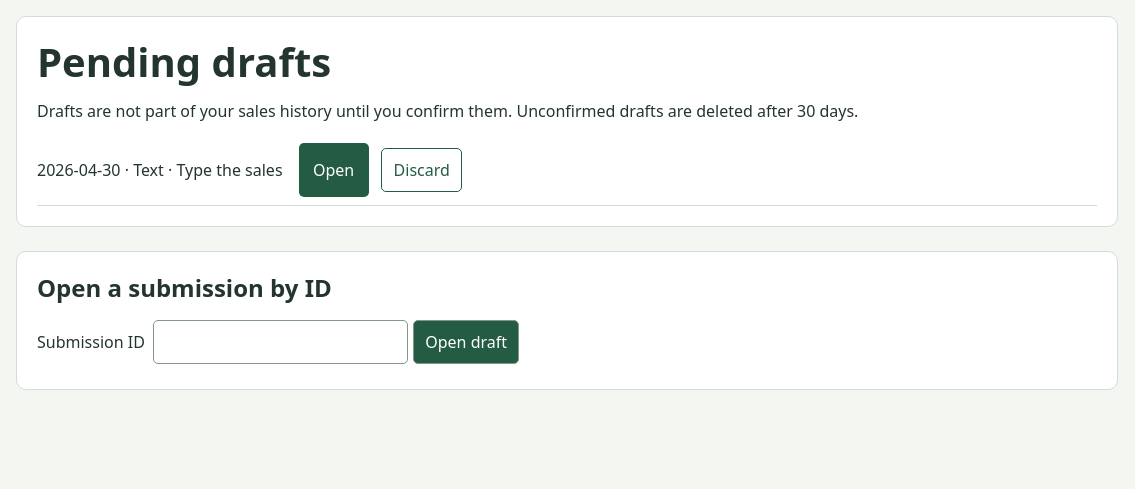
Scenario: Pending drafts (FR-216) › discards a draft and reloads the list
Click the button with aria-label "Discard draft from 2026-04-30": (422, 170) x1=381 y1=148 x2=462 y2=192
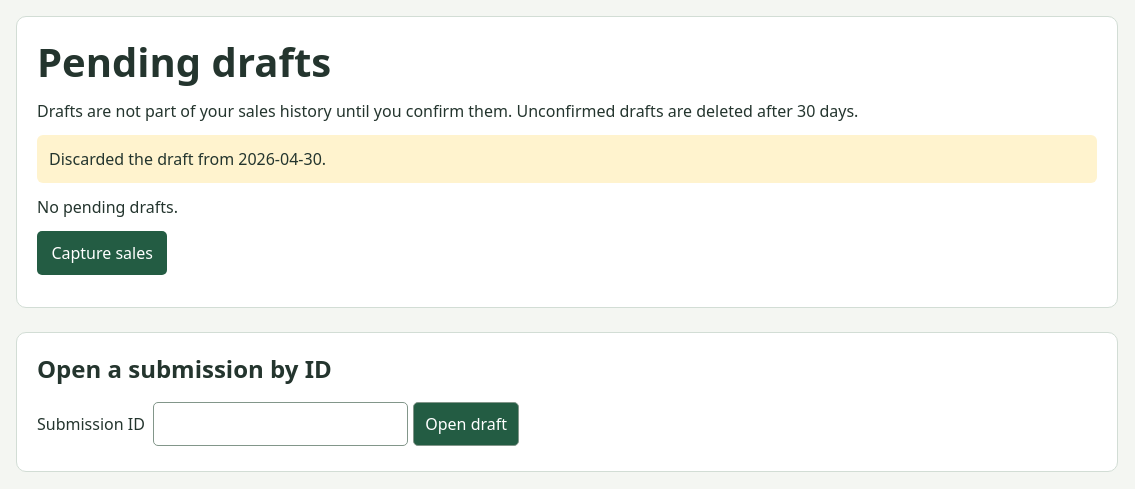
expect the text "No pending drafts." is shown: met, box x1=37 y1=196 x2=178 y2=218
